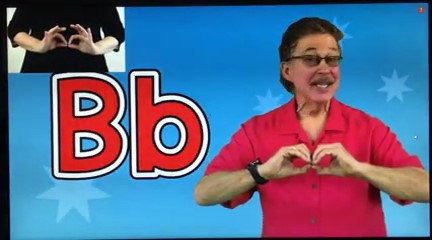B: (266, 140, 356, 182), (38, 23, 100, 57)
